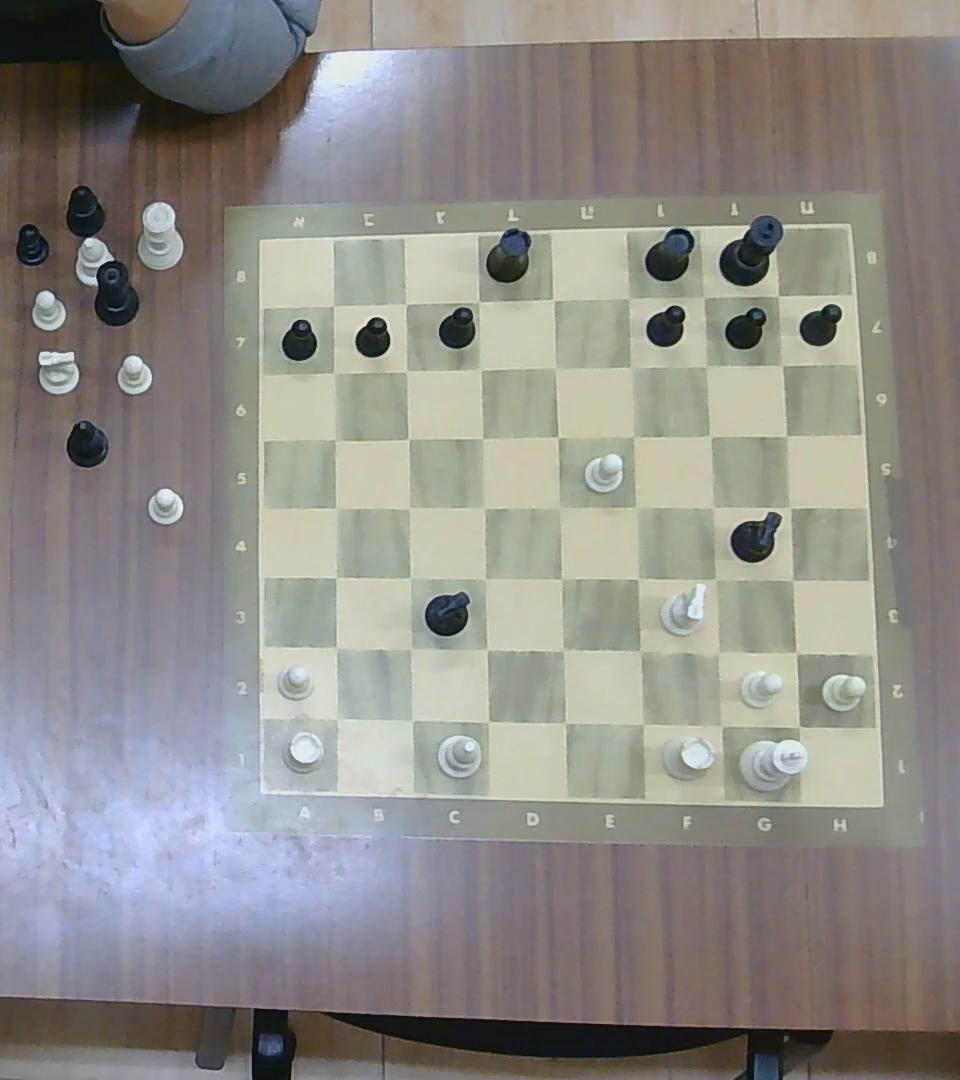xcorner: (781, 708, 815, 742), (703, 707, 738, 740), (624, 707, 659, 740), (702, 636, 734, 669), (625, 635, 656, 667), (548, 706, 579, 738), (547, 633, 578, 665), (470, 633, 501, 665), (471, 704, 502, 736), (396, 702, 427, 734), (780, 637, 812, 668), (776, 563, 808, 594), (320, 701, 351, 732), (394, 632, 425, 663), (622, 563, 652, 594), (547, 563, 577, 594), (700, 563, 730, 594), (470, 563, 501, 593), (320, 632, 350, 663), (320, 562, 350, 591), (622, 491, 651, 520), (616, 351, 645, 380), (698, 492, 728, 520), (545, 491, 573, 520), (470, 492, 499, 520), (467, 422, 495, 451), (543, 421, 572, 449), (619, 421, 648, 449), (538, 284, 566, 313), (776, 492, 804, 520), (540, 352, 568, 380), (393, 425, 422, 452), (395, 494, 423, 521), (395, 563, 423, 590), (322, 494, 350, 521), (318, 291, 346, 318), (692, 352, 720, 379), (615, 285, 643, 311), (696, 422, 723, 448), (393, 356, 419, 382), (322, 426, 348, 451), (322, 360, 348, 385), (467, 355, 492, 380), (465, 288, 491, 312), (393, 291, 418, 315), (773, 423, 798, 447), (691, 283, 716, 307), (770, 352, 793, 376), (767, 283, 790, 307)
